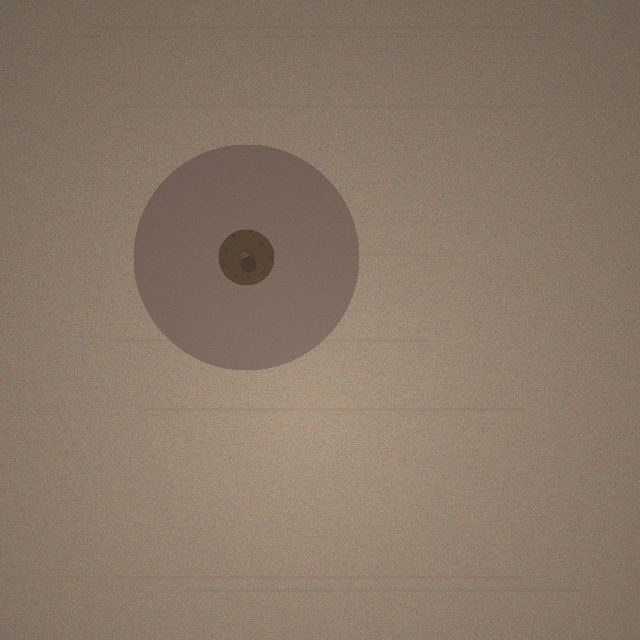cold_weld: (133, 144, 359, 370)
